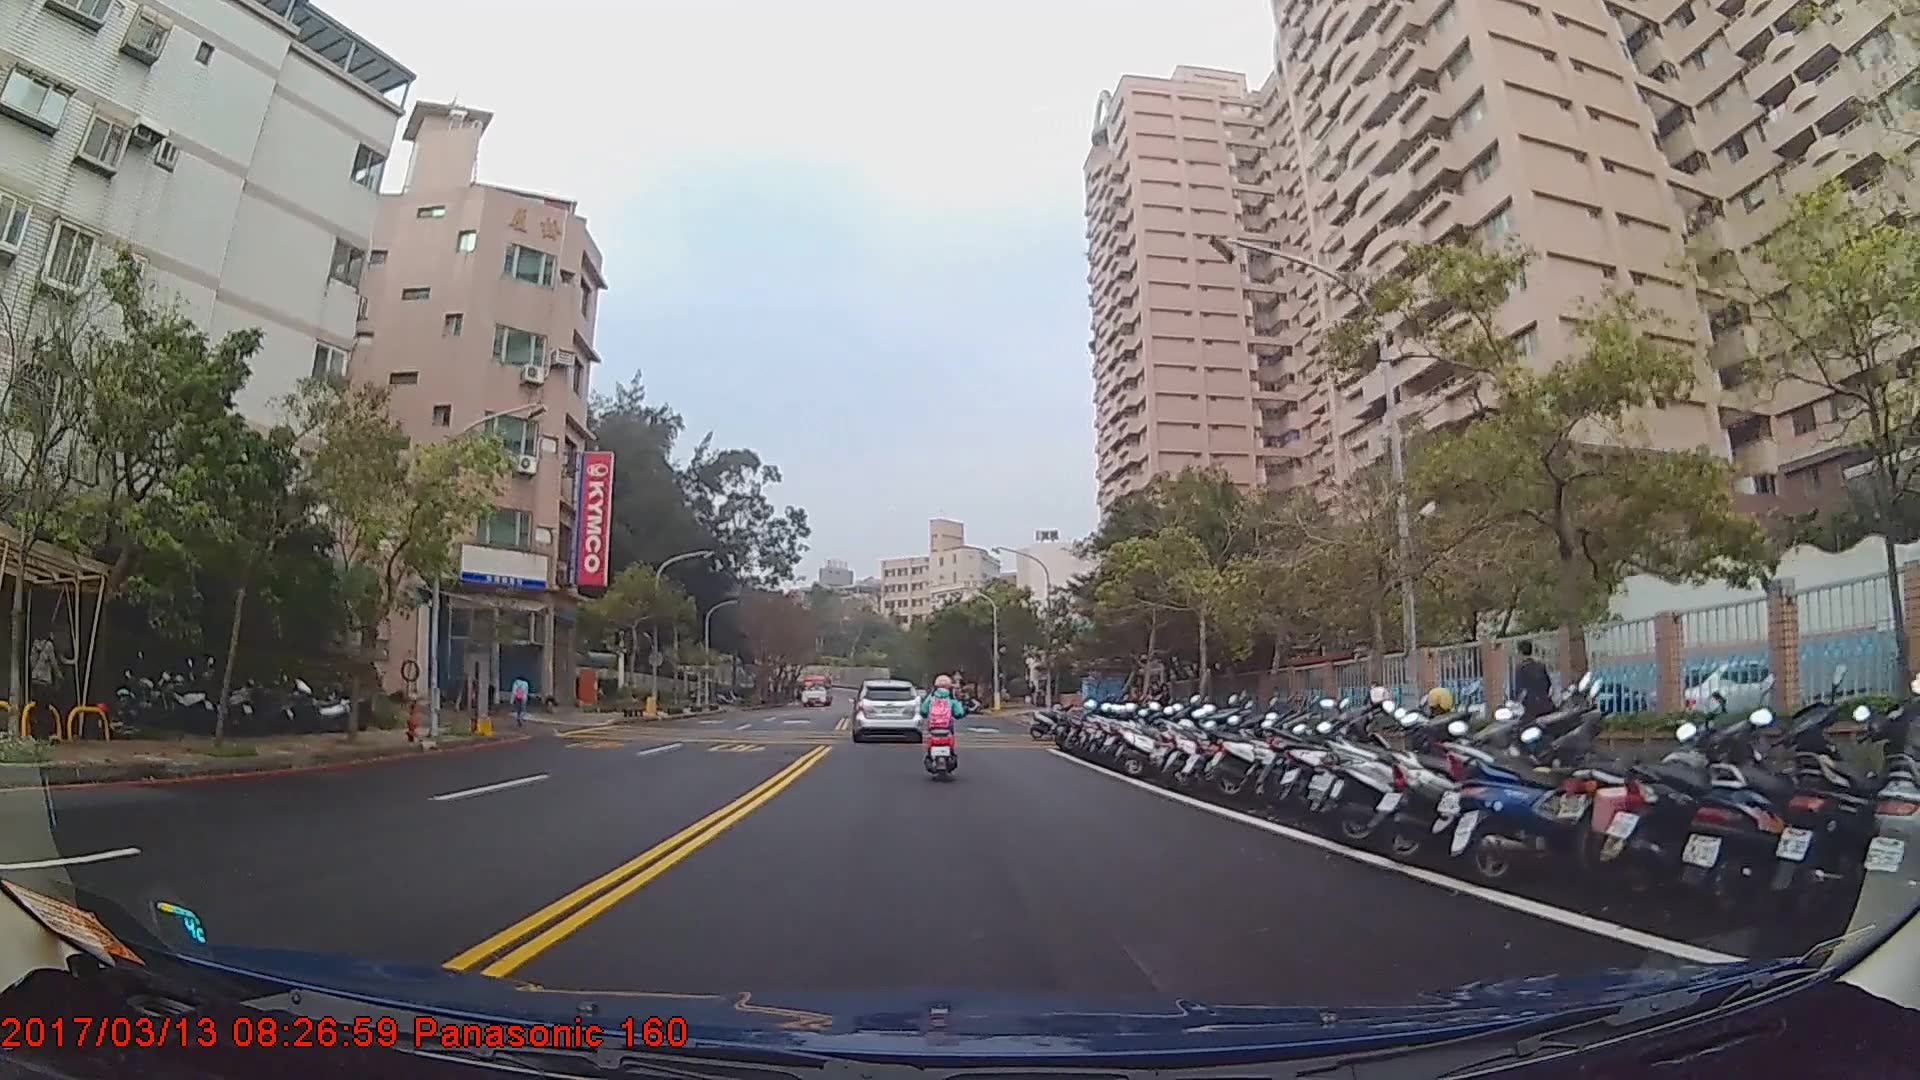pedestrian: (1507, 638, 1553, 772), (29, 619, 66, 748), (511, 670, 531, 730)
rider: (921, 672, 968, 785)
vehicle: (851, 675, 923, 743), (796, 671, 833, 709)
